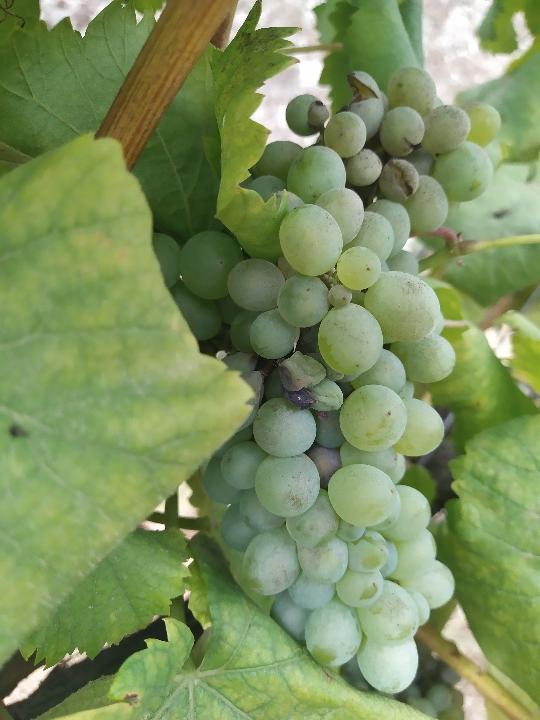grape: (176, 62, 495, 699)
